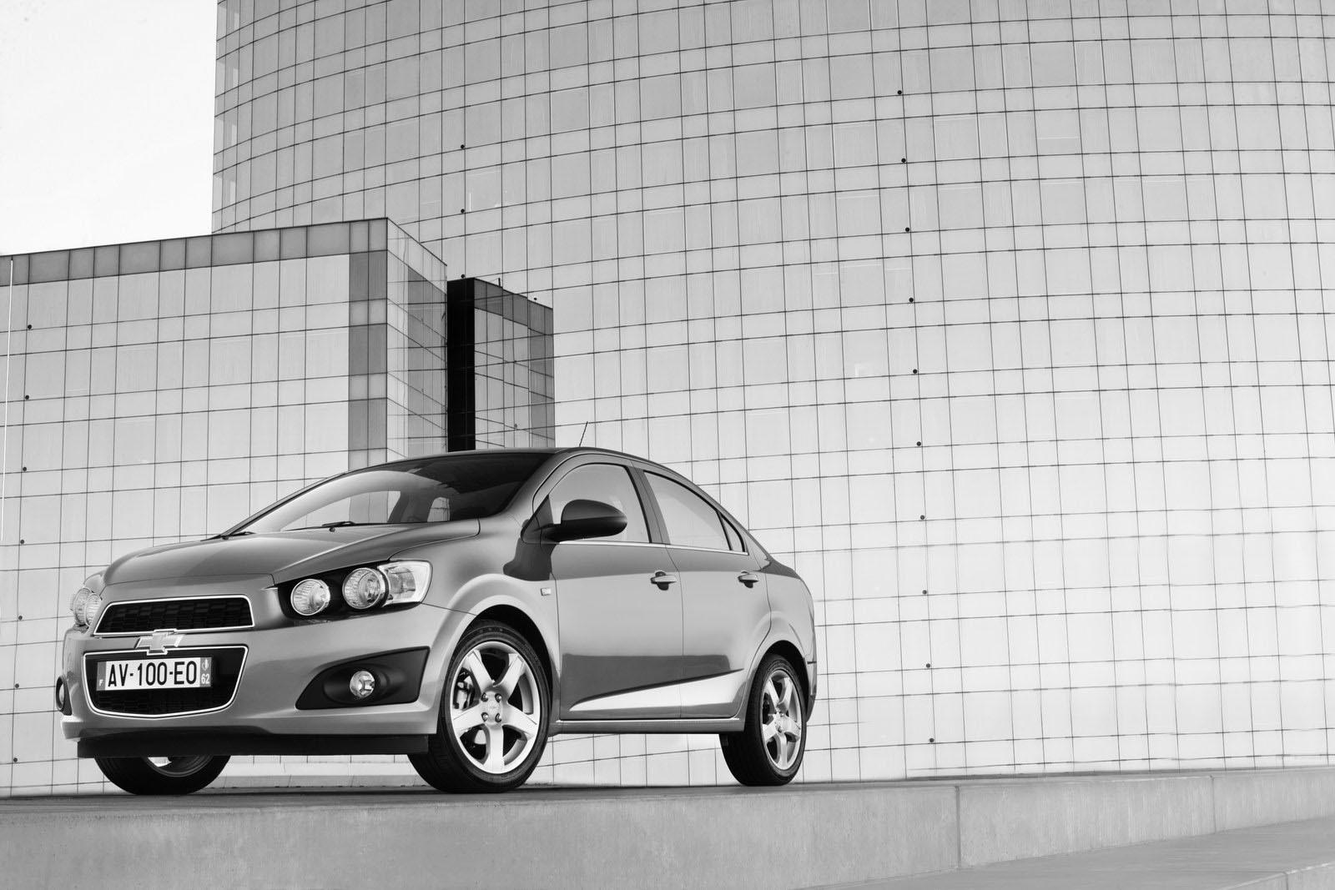car: (58, 419, 815, 793)
